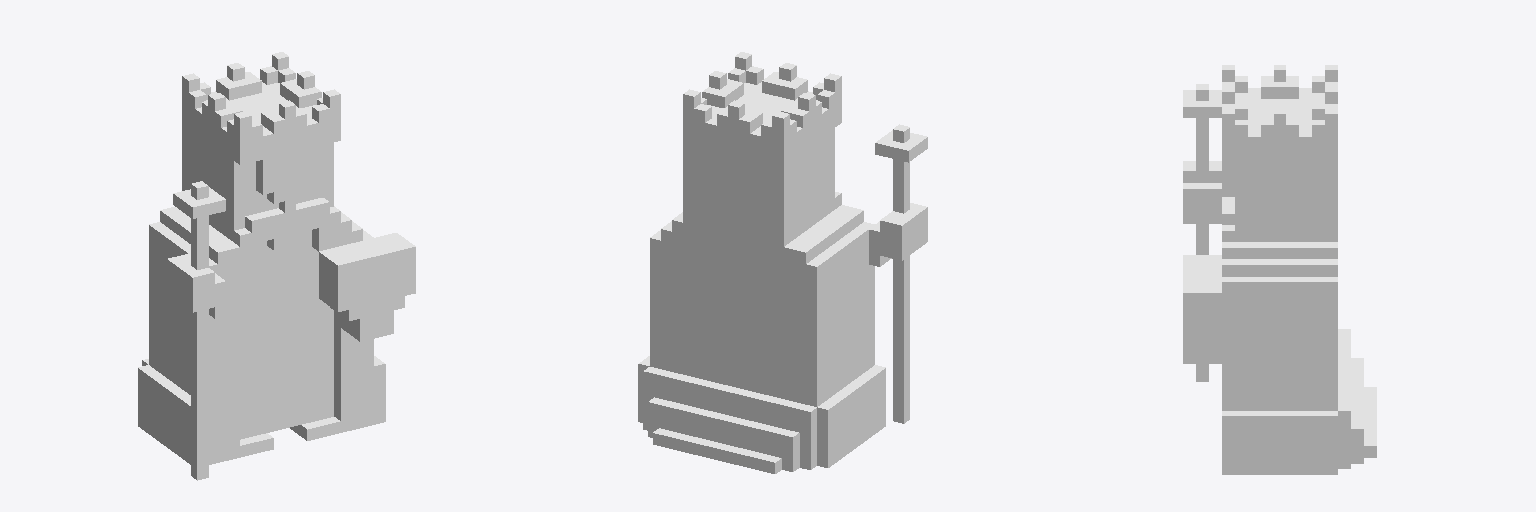
The model's file is empress.obj.
3 renders of one model, left to right at view 1: azimuth 30°, elevation 25°; view 2: azimuth 150°, elevation 25°; view 3: azimuth 270°, elevation 25°, orthographic.
Visible parts, largest first — view 1: object 1; view 2: object 1; view 3: object 1.
Boxes of the visible parts, x1,y1,x2,y2 form: object 1: [138, 52, 415, 480]; object 1: [638, 52, 927, 473]; object 1: [1183, 65, 1376, 474].
Bounding box in the file's own units: 2 × 2.9 × 1.5.